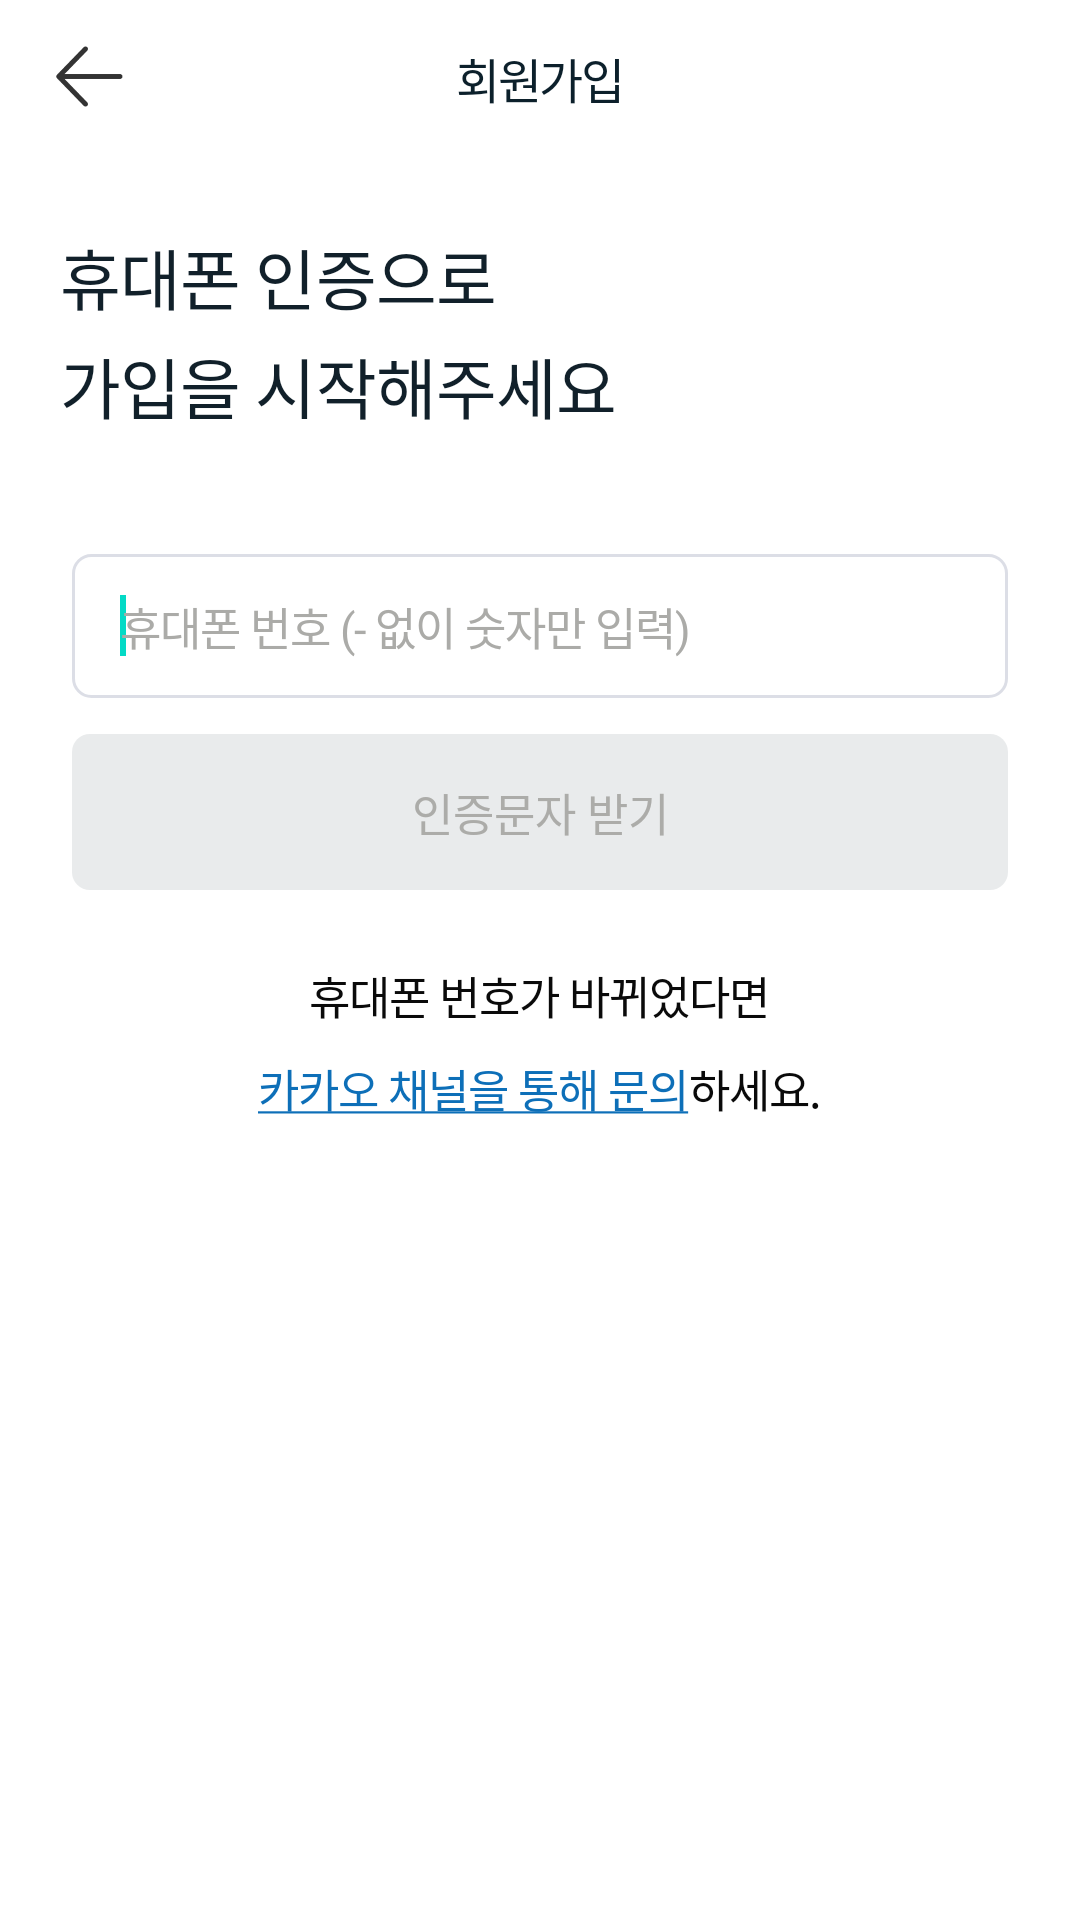

Named icons in this screenshot (1080 × 1920) and their bounding boxes, (x1, y1, x2, y2):
arrow left: (56, 46, 123, 107)
